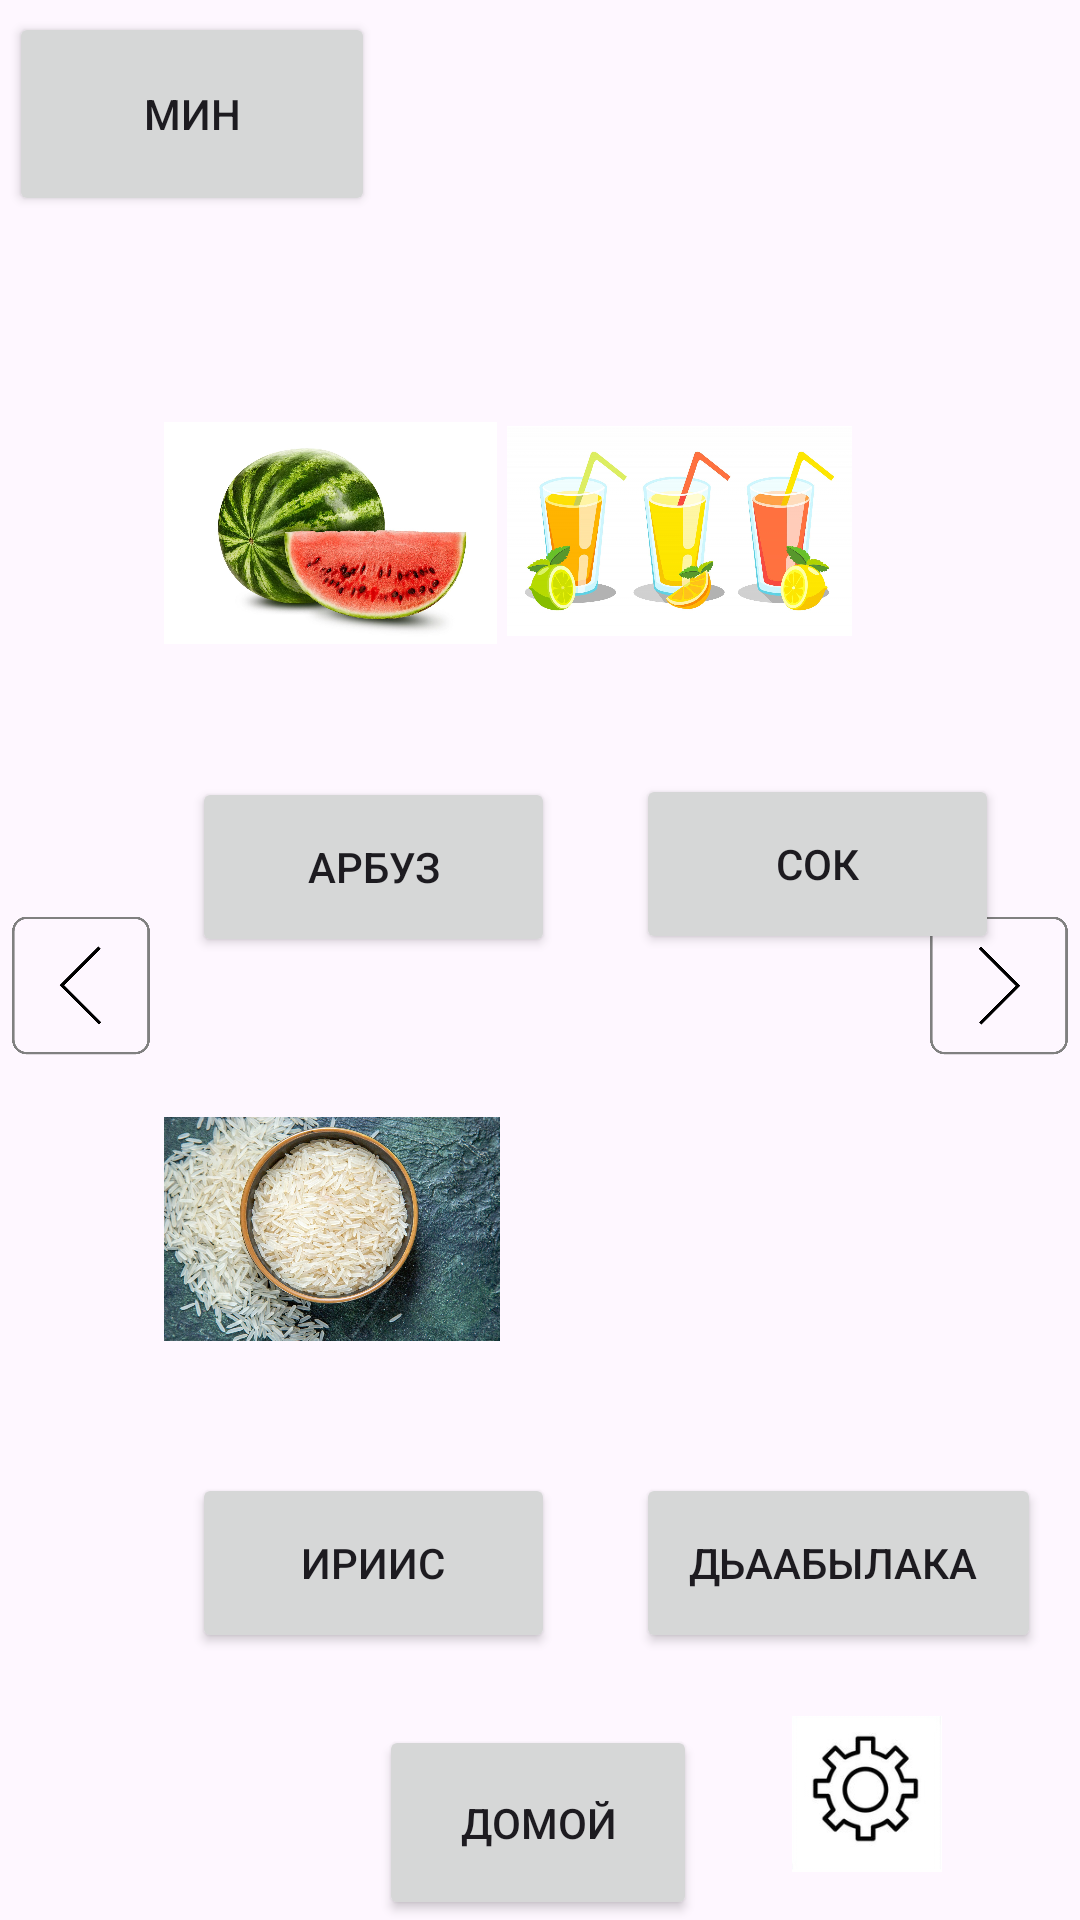

Named icons in this screenshot (1080 x 1920) and their centers, (x=x, y=y):
juice: (x=679, y=531)
left: (x=81, y=986)
rice: (x=332, y=1229)
right: (x=999, y=977)
settings: (x=865, y=1789)
watermelon: (x=342, y=539)
